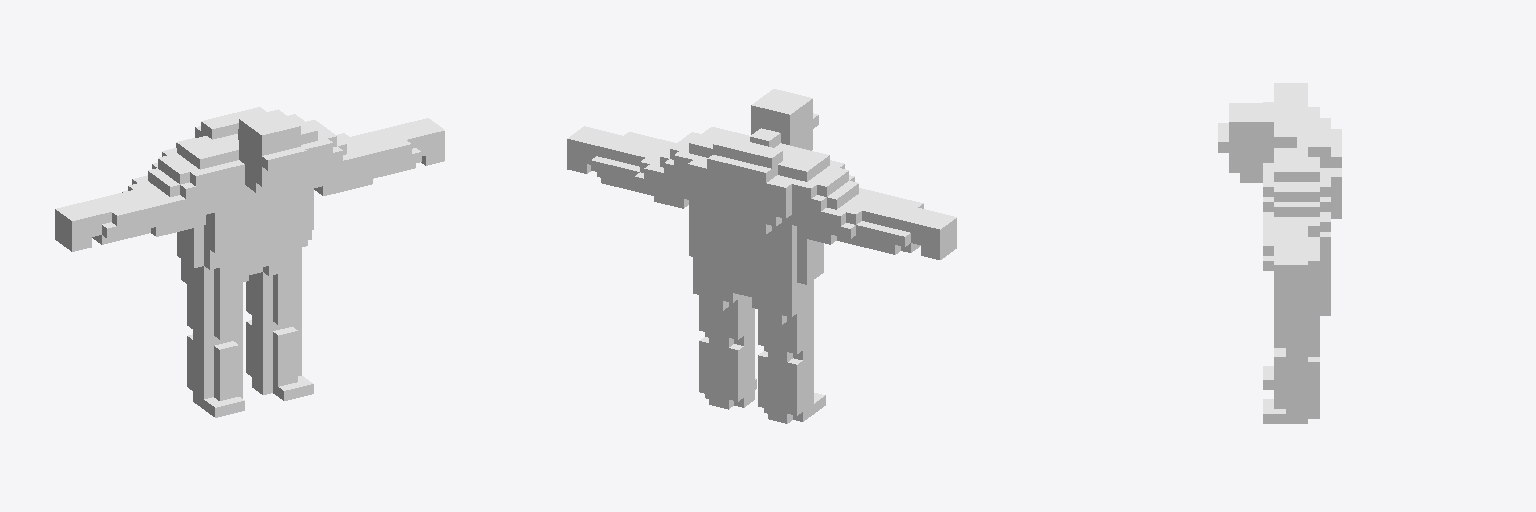
Rendered from SM-9-Igor_Tpose.obj.
3 views of the same model, side by side, from view 1: azimuth 30°, elevation 25°; view 2: azimuth 150°, elevation 25°; view 3: azimuth 270°, elevation 25° (orthographic).
Visible parts, largest first — view 1: Igor_Tpose; view 2: Igor_Tpose; view 3: Igor_Tpose.
Boxes of the visible parts, x1,y1,x2,y2 form: Igor_Tpose: [55, 107, 444, 417]; Igor_Tpose: [567, 89, 956, 423]; Igor_Tpose: [1218, 83, 1341, 423].
Size of the model in its own units: 3.8 by 2.8 by 1.1.